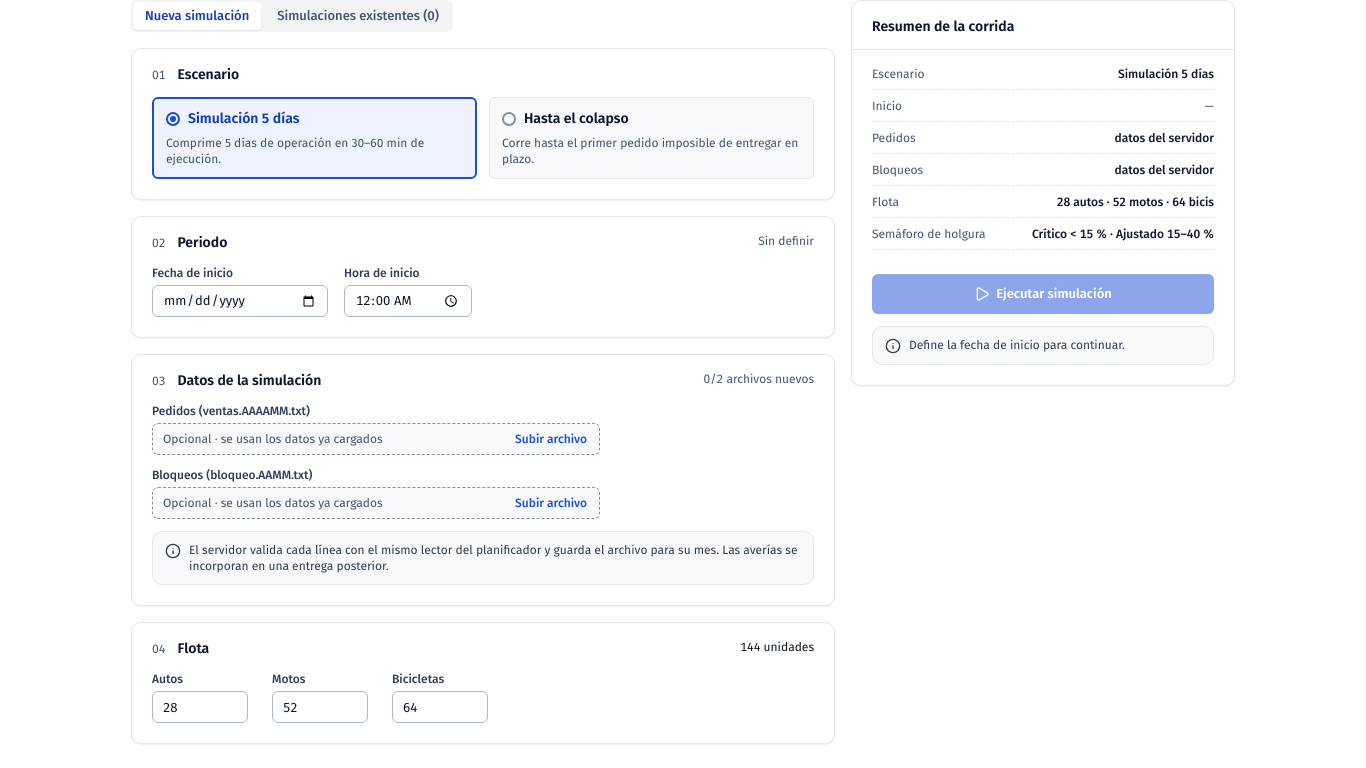
Scenario: Rúbrica · carga de datos por GUI › G13 · la cantidad no se muestra con ceros a la izquierda (0 → 1 se ve "1", no "01")
The width and height of the screenshot is (1366, 768).
(page scrolled)
Replace the text in the field labelled "Autos" with "0" at (200, 707), box [152, 691, 248, 723]
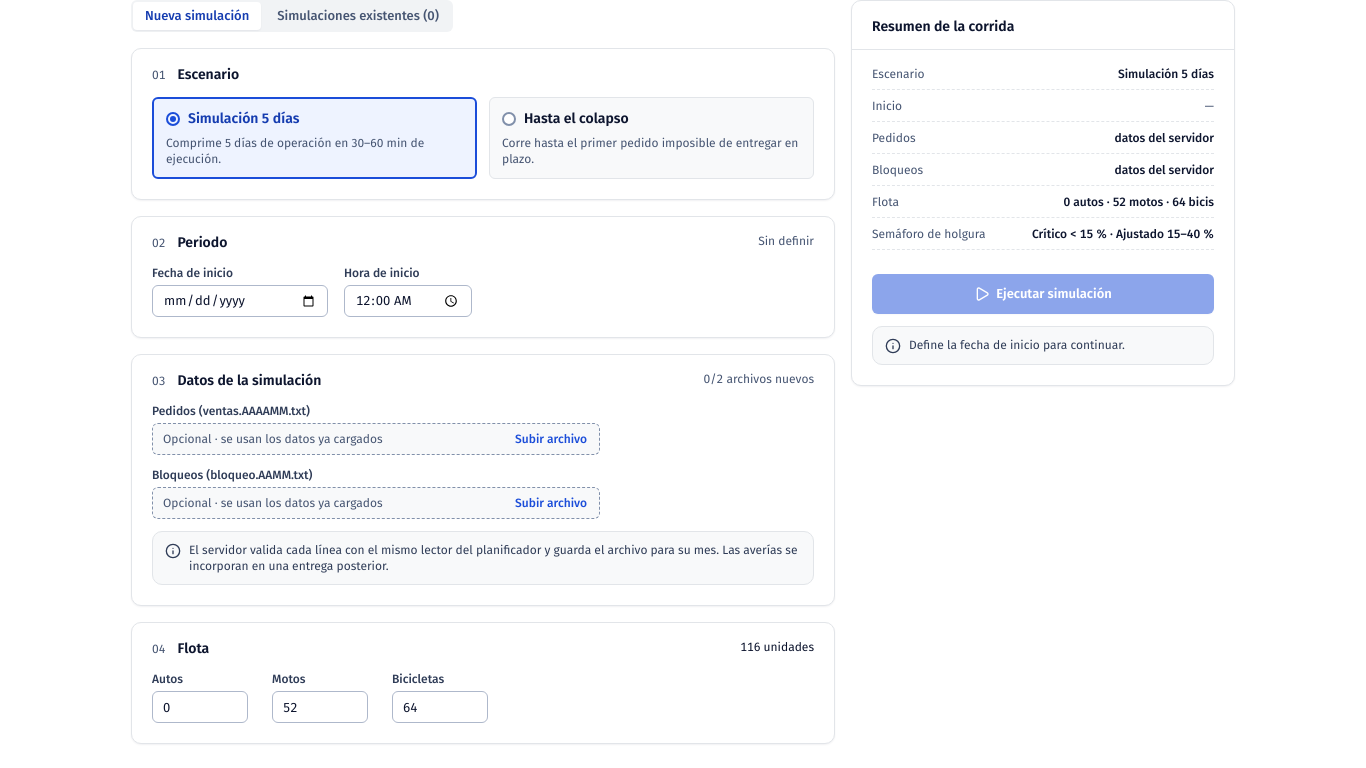
Replace the text in the field labelled "Autos" with "01" at (200, 707), box [152, 691, 248, 723]
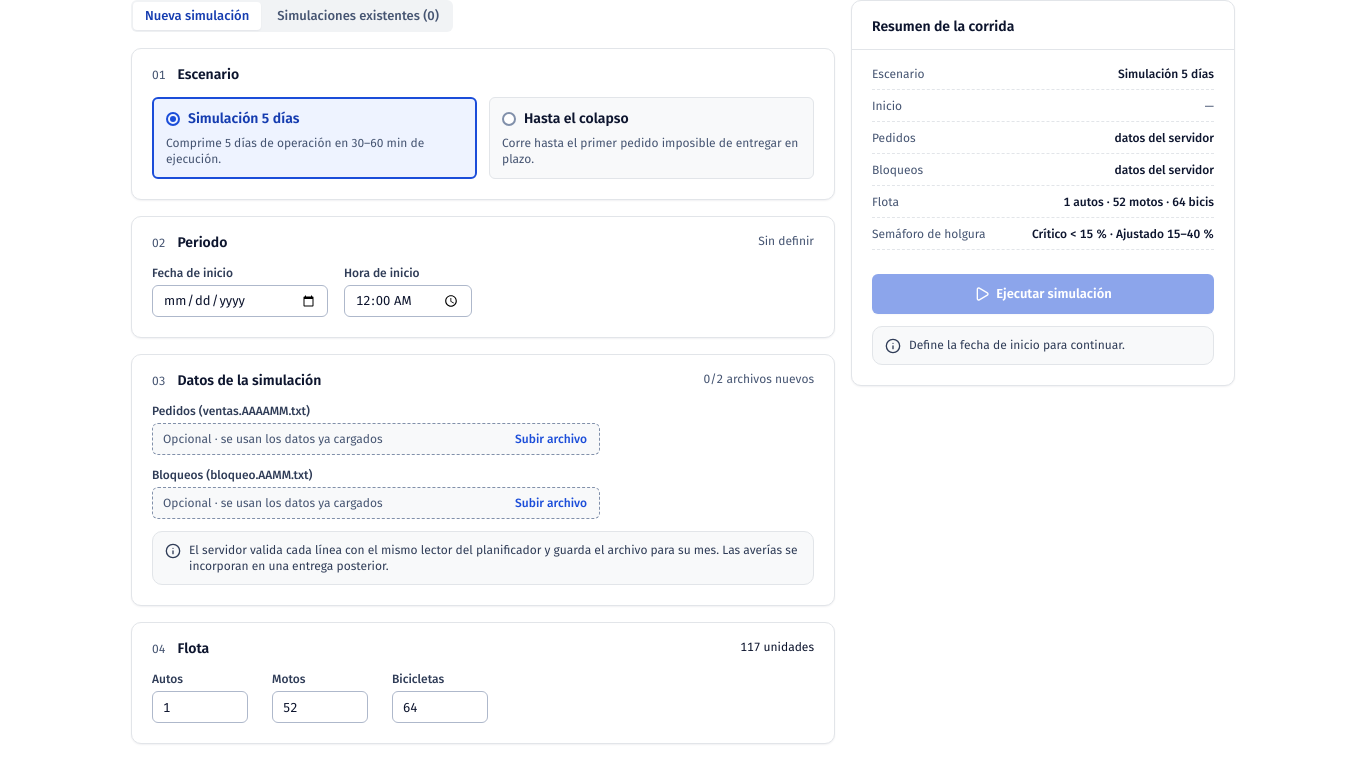
expect the field labelled "Autos" holds "1": met
Replace the text in the field labelled "Autos" with "025" at (200, 707), box [152, 691, 248, 723]
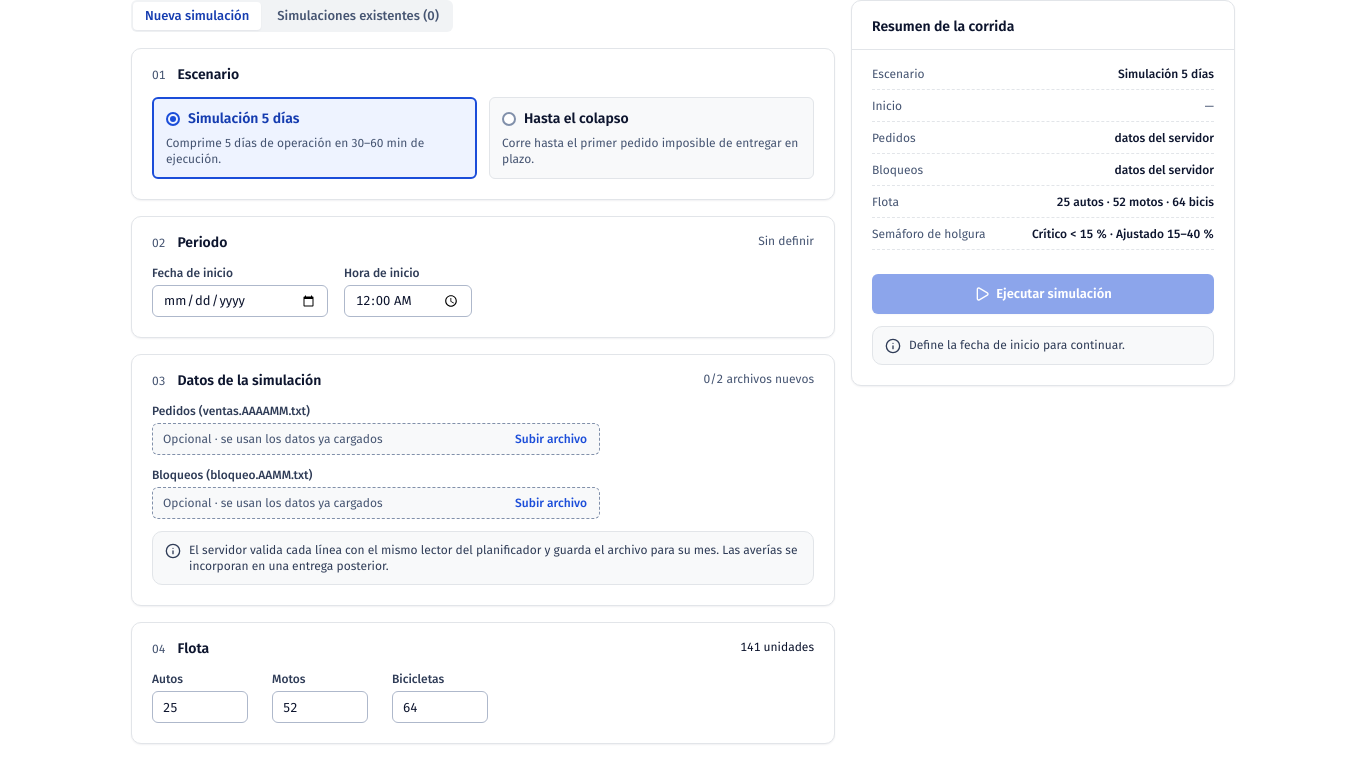
expect the field labelled "Autos" holds "25": met, box [152, 691, 248, 723]
